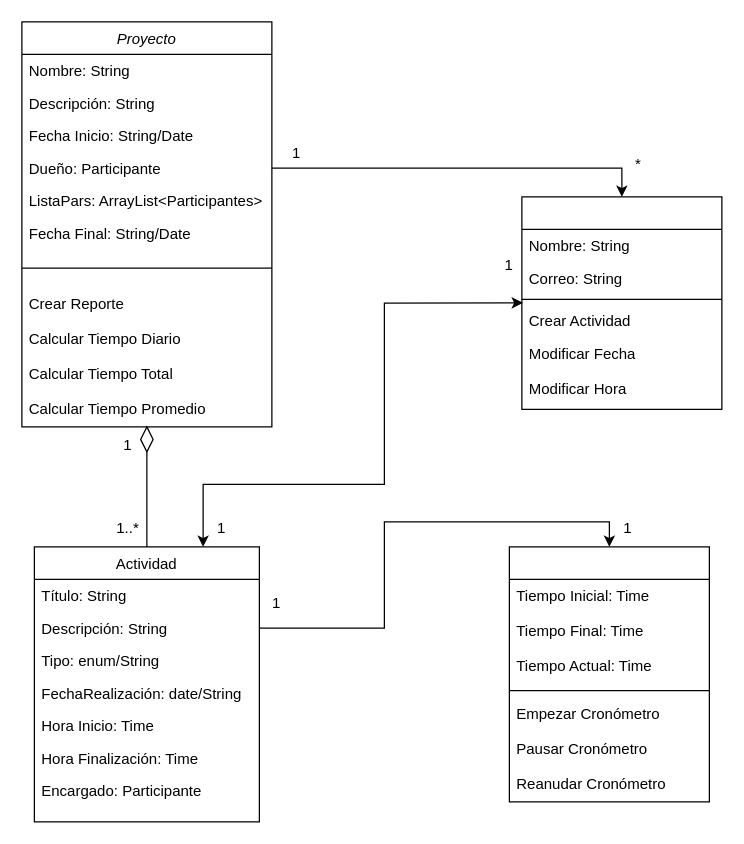
Some shapes in this 744 by 844 pixel diagram are drawn without their labels. Here are the shapes that lost their labels. From the top down, the box of each, then its label:
(521, 196, 722, 409): Participante
(508, 546, 709, 802): Cronometro
